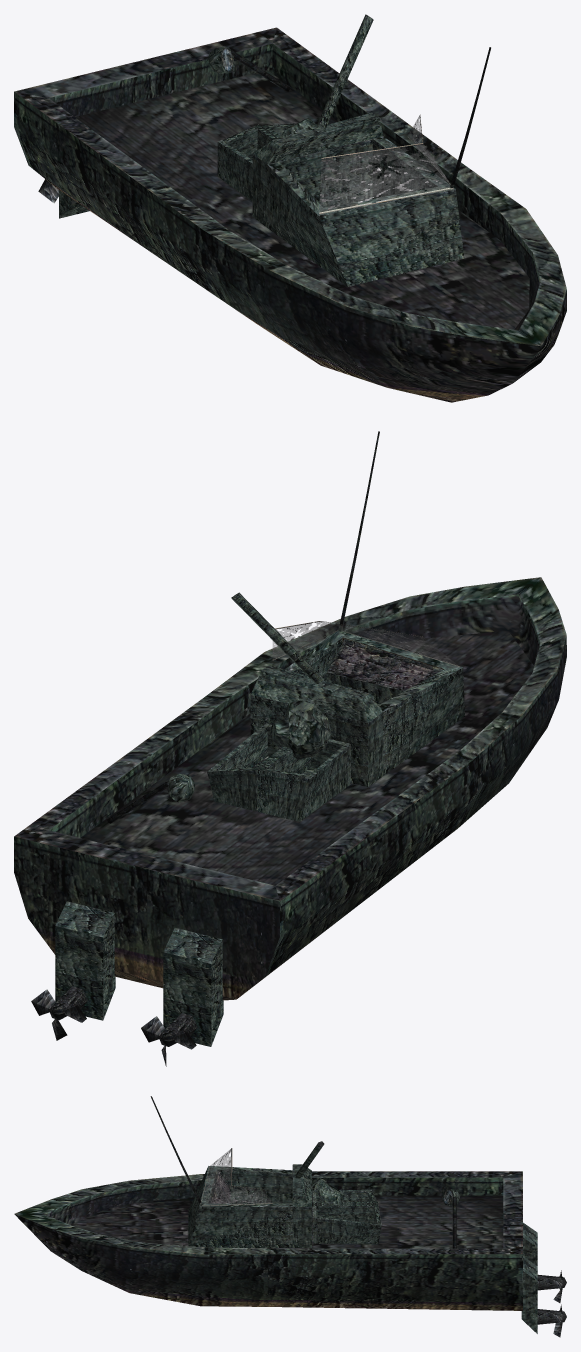
The model's file is PTRLB_X.glb.
3 views of the same model, one above another, from view 1: azimuth 30°, elevation 25°; view 2: azimuth 150°, elevation 25°; view 3: azimuth 270°, elevation 25° (orthographic). The views are drawn at different scales.
Parts seen in each view (by area): view 1: _PTRLB_X; view 2: _PTRLB_X; view 3: _PTRLB_X.
Boxes of the visible parts, <box> form: _PTRLB_X: <box>14,14,566,402</box>; _PTRLB_X: <box>14,431,566,1066</box>; _PTRLB_X: <box>14,1096,566,1337</box>.
Bounding box in the file's own units: 6.17 × 8.3 × 17.28.
3 materials, 3 textured.
